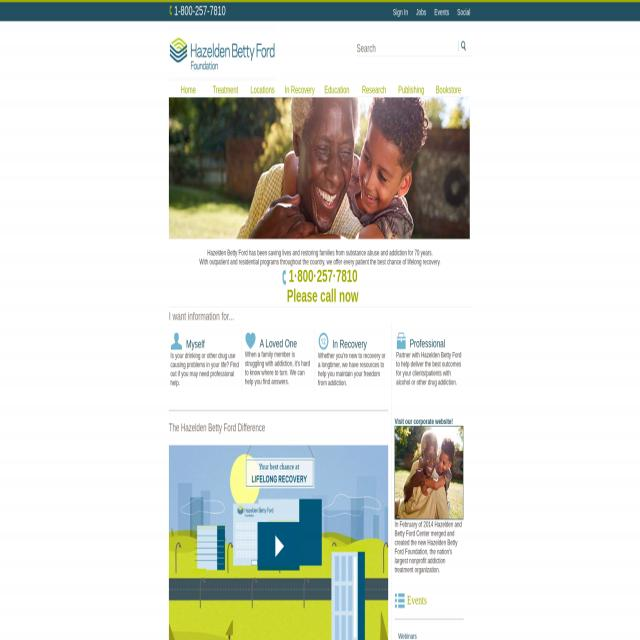button: (168, 444, 388, 640), (169, 98, 470, 239), (394, 426, 464, 519), (170, 27, 276, 81), (257, 522, 299, 570), (318, 81, 356, 96), (170, 81, 207, 96), (207, 81, 244, 96), (244, 81, 281, 96), (393, 81, 430, 96), (430, 81, 467, 96), (282, 81, 318, 96), (356, 81, 392, 96), (171, 332, 182, 350), (396, 332, 406, 349), (319, 332, 328, 350), (246, 332, 255, 348), (395, 594, 405, 608), (458, 40, 469, 52), (282, 270, 286, 285)
field: (378, 41, 457, 56)
